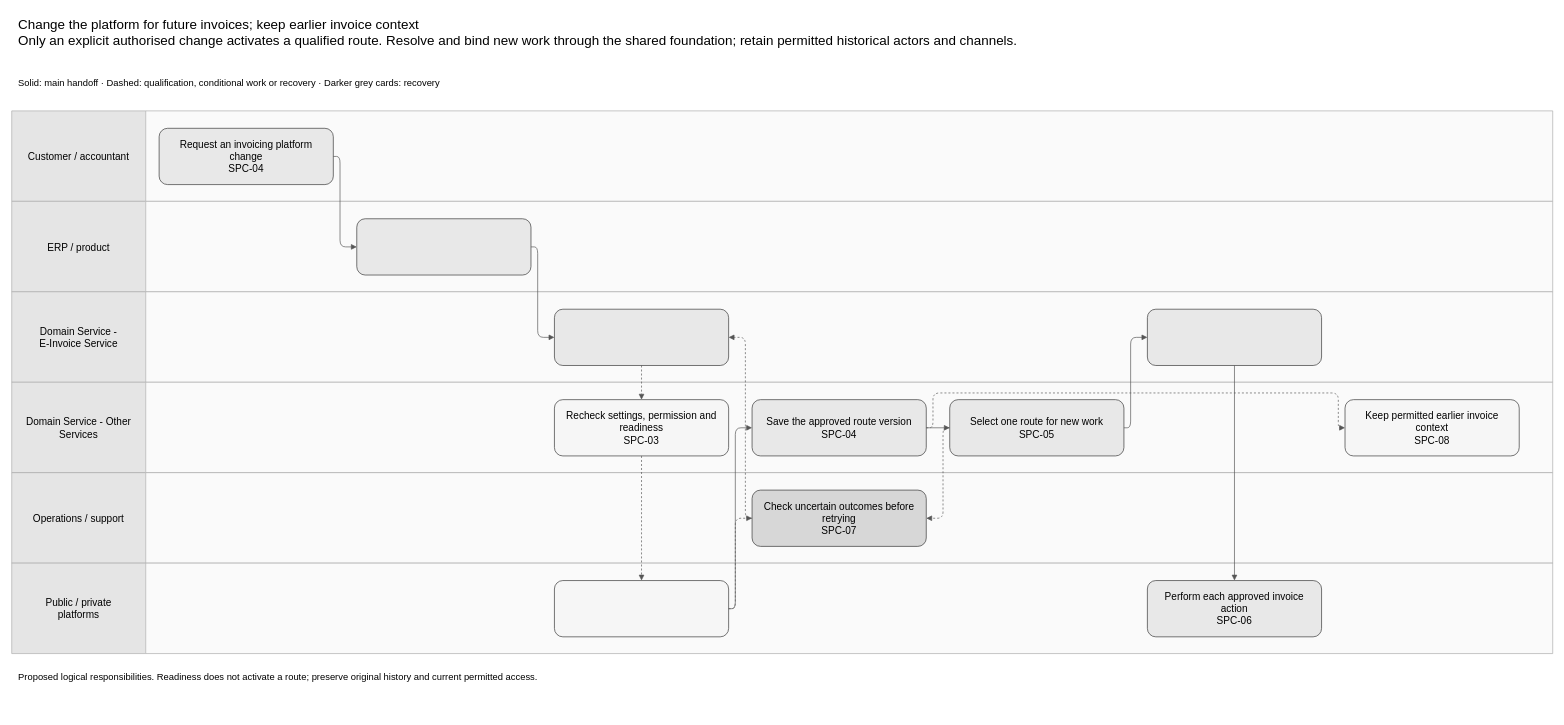
This 1564x725 diagram has some shape labels left out. The centre of each missing label's shape, as x and y in pixels:
"Confirm direction and effective time SPC-04" belongs at pixel 443 246.
"Confirm required external changes SPC-04" belongs at pixel 641 608.
"Coordinate the authorised platform change SPC-04" belongs at pixel 641 337.
"Save invoice context and the action owner SPC-06" belongs at pixel 1234 337.
